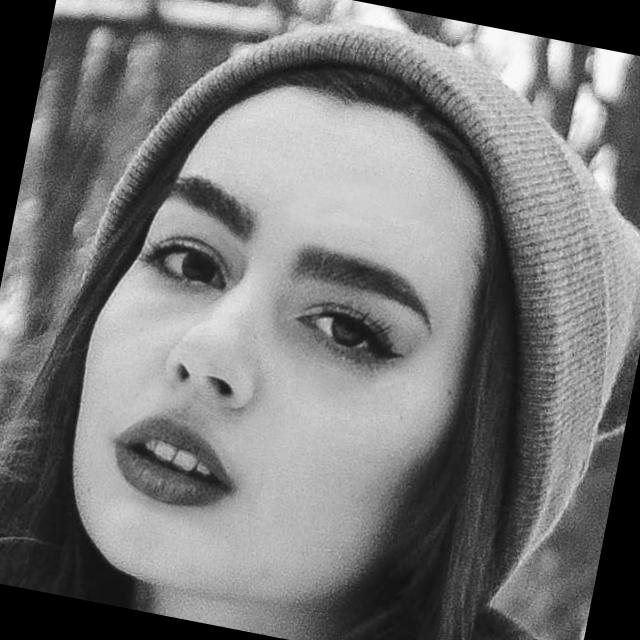face: (38, 50, 584, 640)
